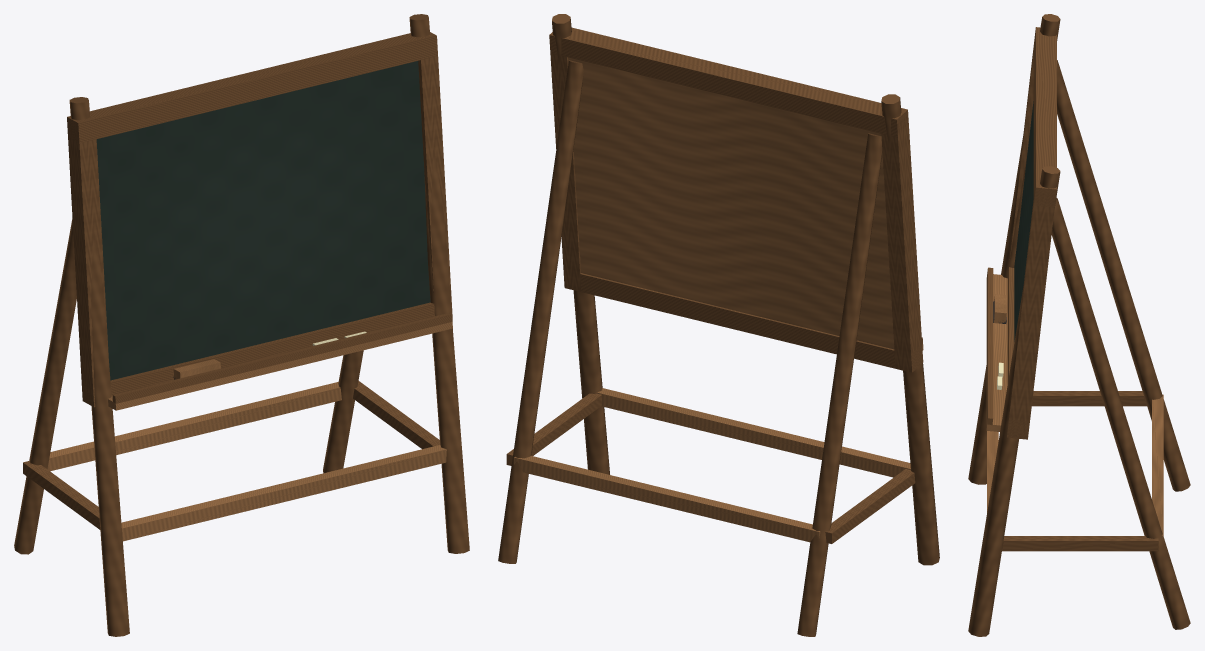
The model's file is papan_mata_kayu.glb.
The picture shows the model from 3 angles, left to right: view 1: azimuth 30°, elevation 25°; view 2: azimuth 150°, elevation 25°; view 3: azimuth 270°, elevation 25°; orthographic projection. The views are drawn at different scales.
Visible parts, largest first — view 1: Papan_Mata_Kayu; view 2: Papan_Mata_Kayu; view 3: Papan_Mata_Kayu.
Boxes of the visible parts, box(x1,y1,x2,y2) form: Papan_Mata_Kayu: box(14, 14, 469, 636); Papan_Mata_Kayu: box(498, 14, 939, 636); Papan_Mata_Kayu: box(968, 14, 1190, 636).
Bounding box in the file's own units: 1.15 × 1.56 × 0.6736.
Materials: 1 (1 with a texture image).
